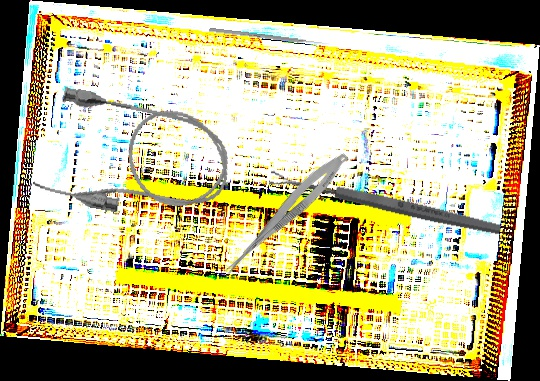Cannula: (30, 84, 239, 232)
Micro Scissor: (216, 146, 353, 287)
Pusher: (209, 27, 329, 47)
Surgical Spoon: (268, 168, 502, 238)
